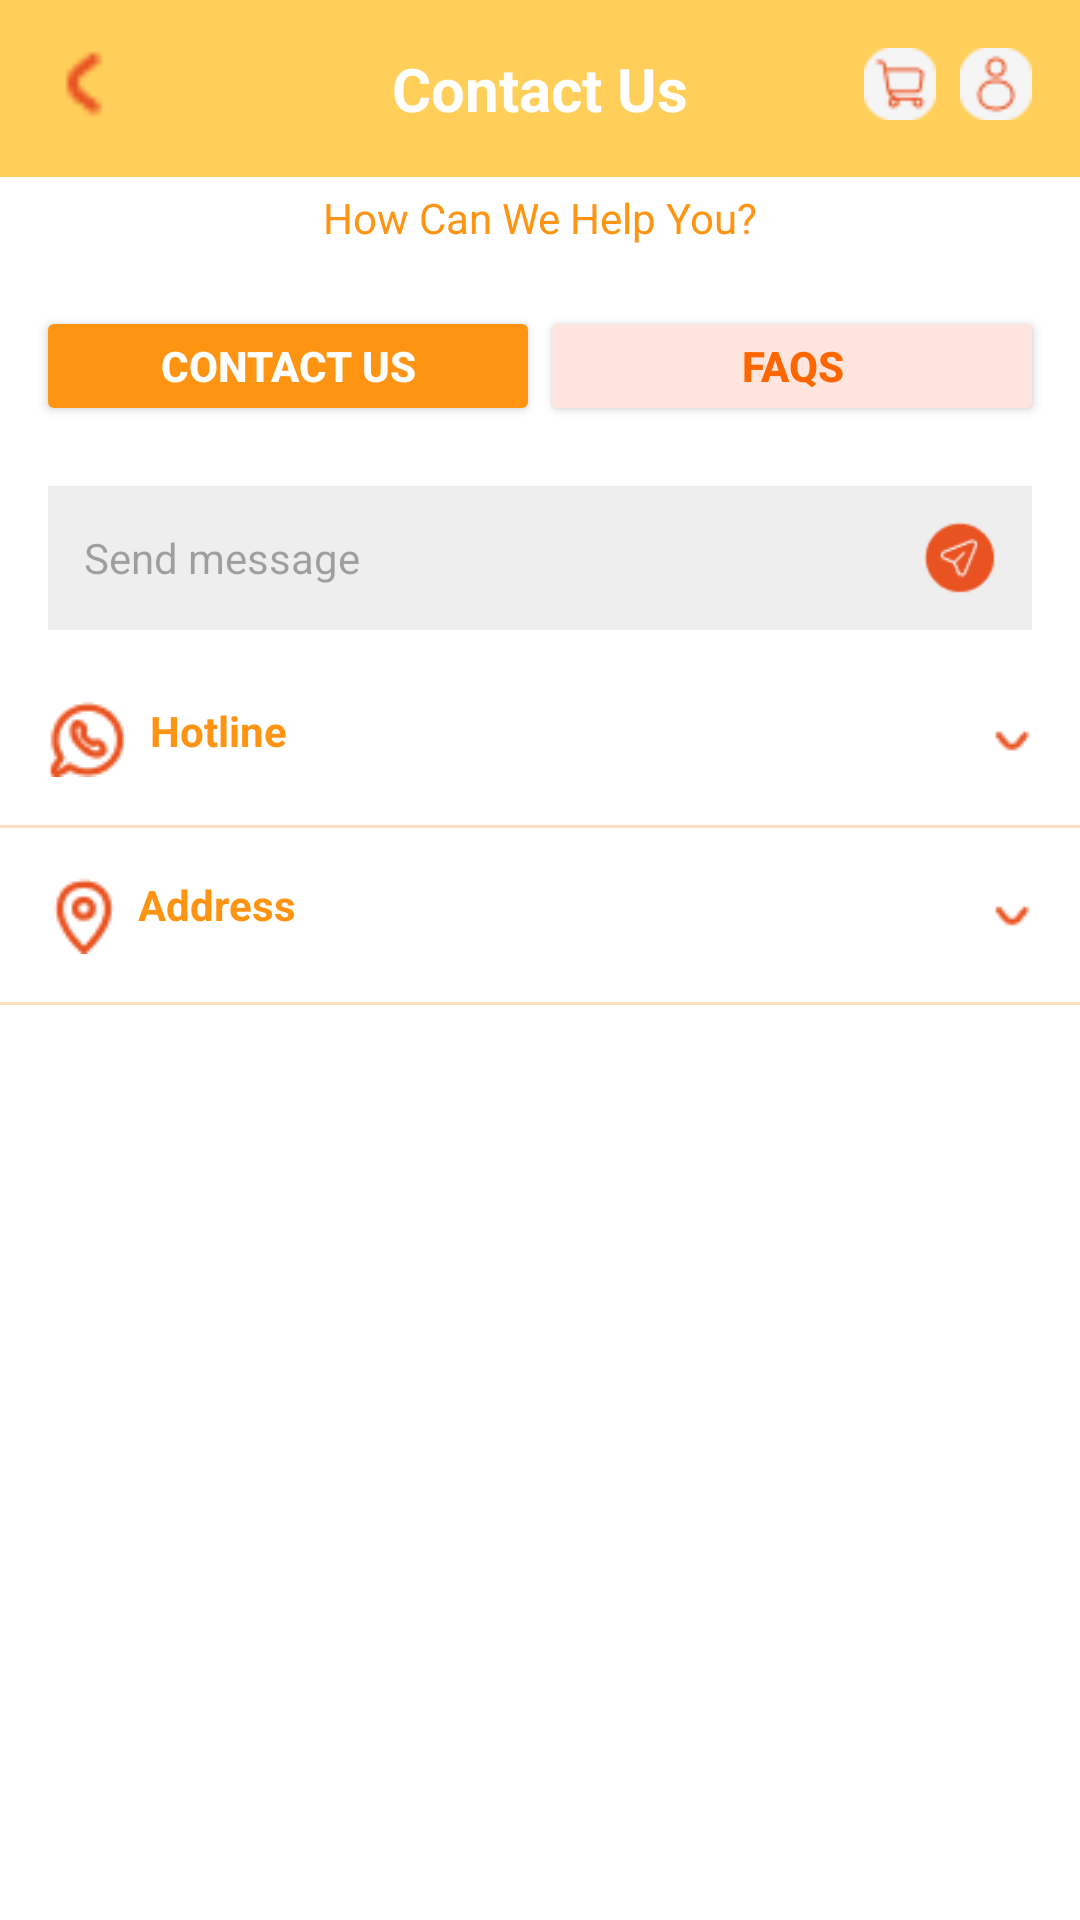

Icon bounding boxes for this 1080 x 1920 phone screenshot, format [x1, y1, x2, y2]:
back: [66, 52, 102, 115]
cart: [864, 48, 936, 120]
user: [960, 48, 1032, 120]
